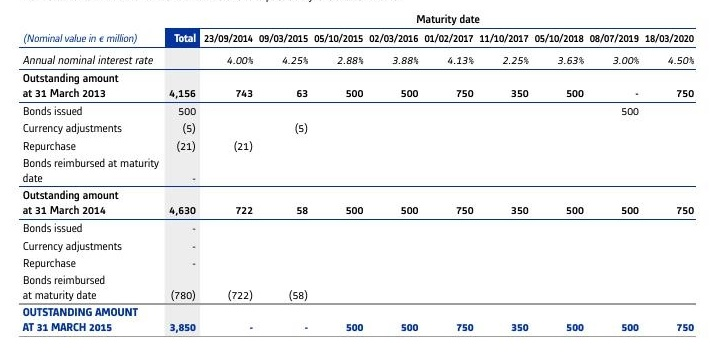table: (0, 0, 714, 356)
